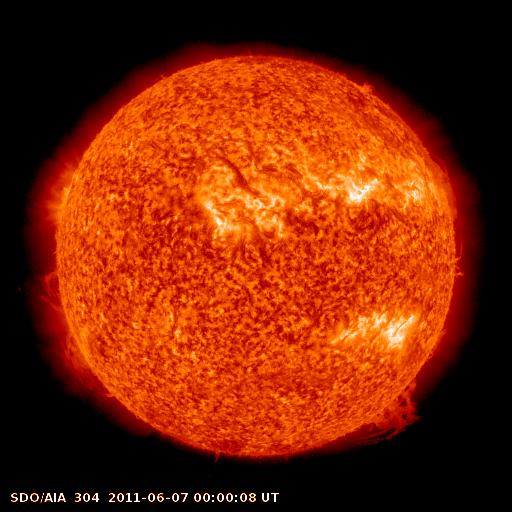prominence: (24, 269, 122, 402), (413, 127, 477, 281), (320, 371, 431, 452)
